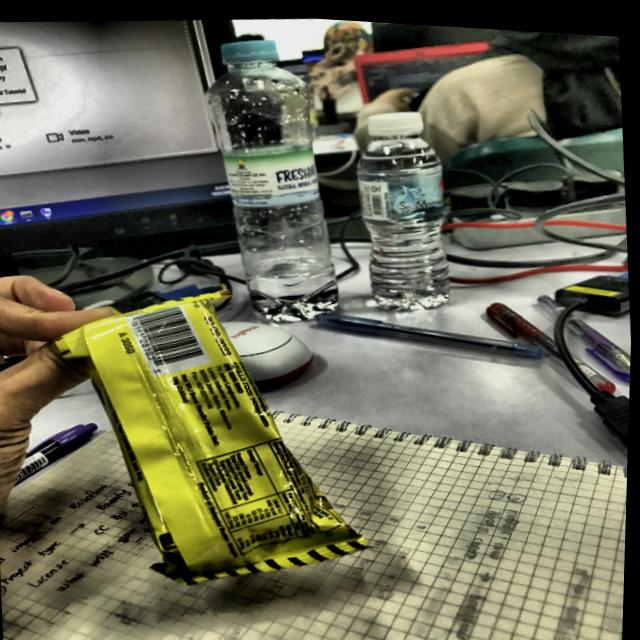Plastic: (61, 291, 384, 587)
